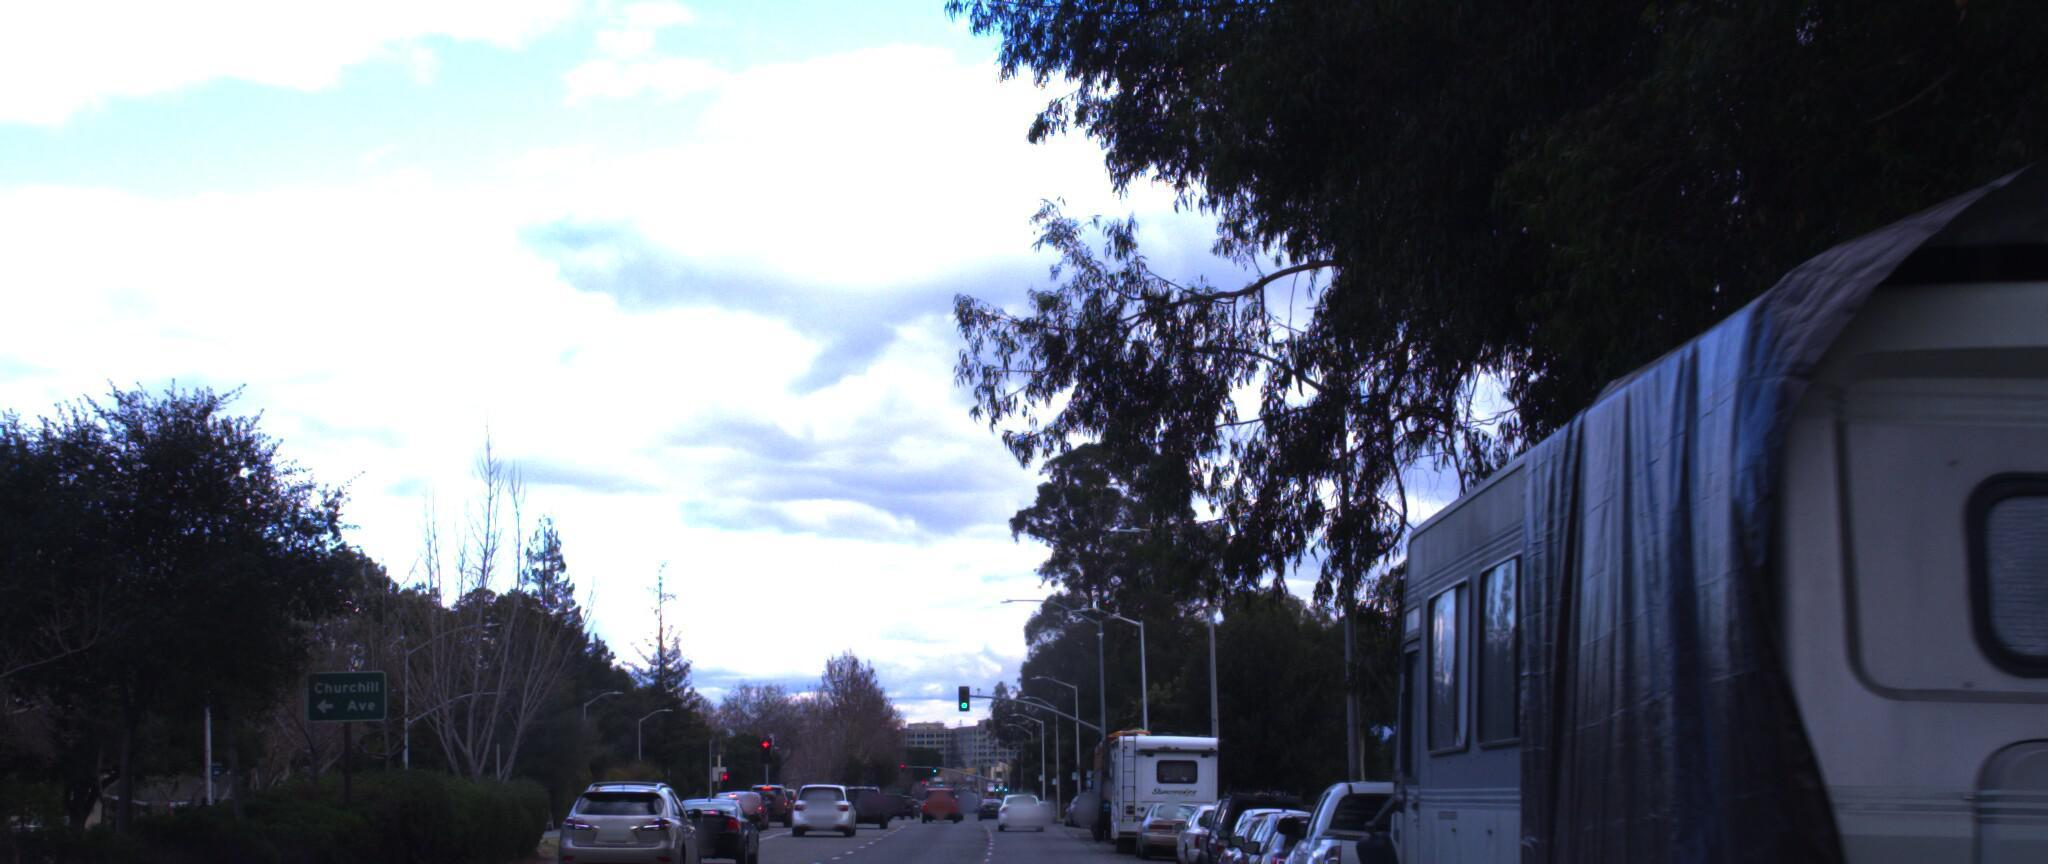car: (0, 208, 179, 864), (1260, 760, 1543, 864), (1226, 790, 1443, 864), (559, 764, 709, 864), (1220, 788, 1395, 864), (1192, 760, 1313, 864), (666, 771, 771, 854), (1135, 779, 1216, 844)
other_vehicle: (1348, 117, 2048, 864), (1108, 709, 1233, 839)
